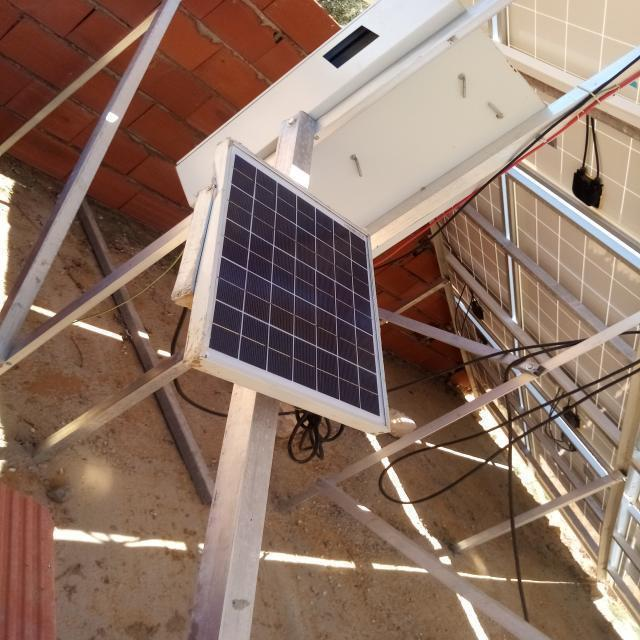Normal Solar Panel: (203, 139, 389, 428)
